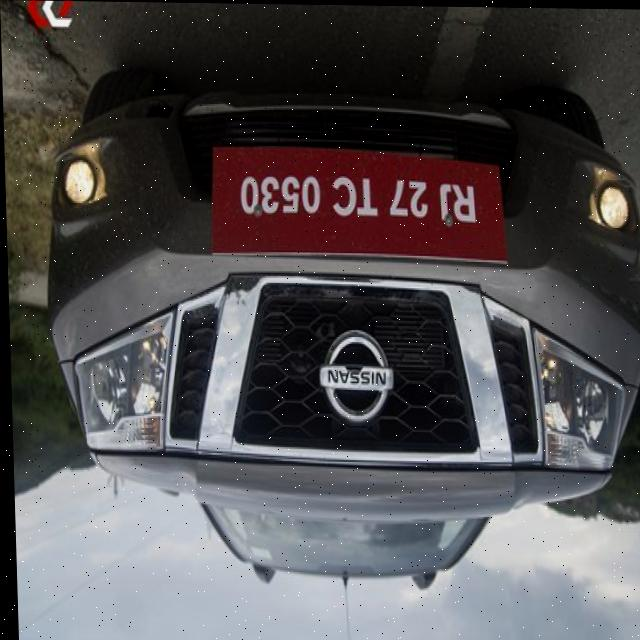plate: (207, 138, 512, 272)
